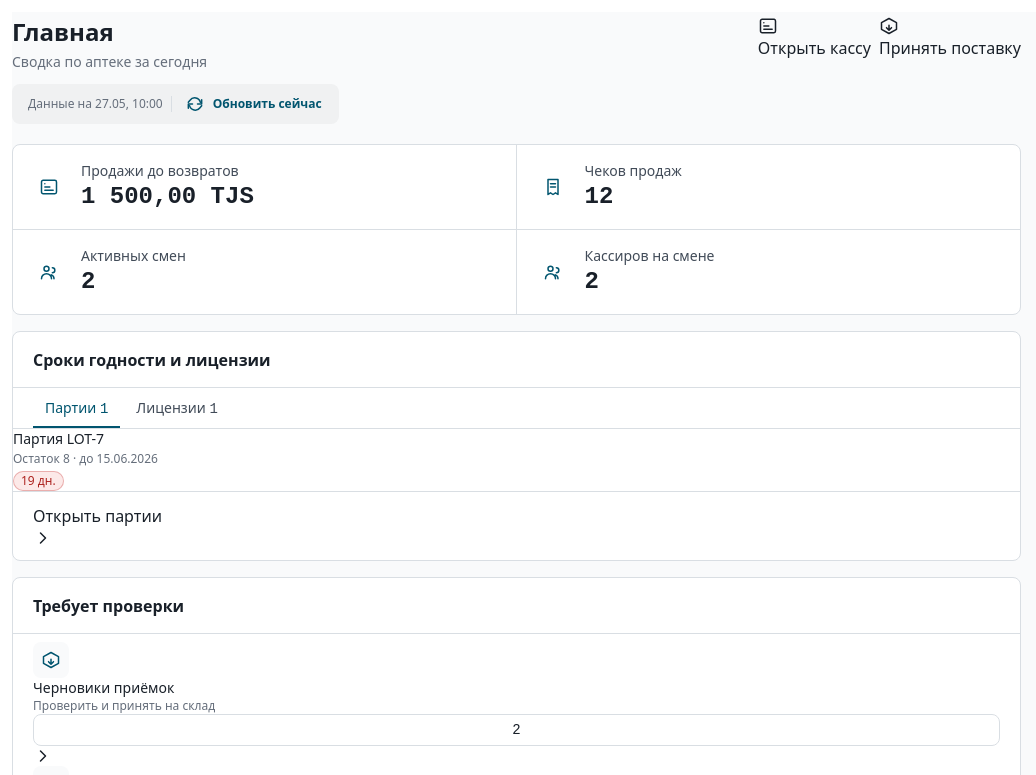
DashboardPage › renders pharmacy operations without Aurum invoice or payment reminders
The width and height of the screenshot is (1036, 775).
Expected: the heading "Сроки годности и лицензии" is shown, [33,348,271,372]
Expected: the heading "Требует проверки" is shown, [33,594,184,618]
Click the button "Лицензии 1" at x=177, y=408, box [124,388,230,428]
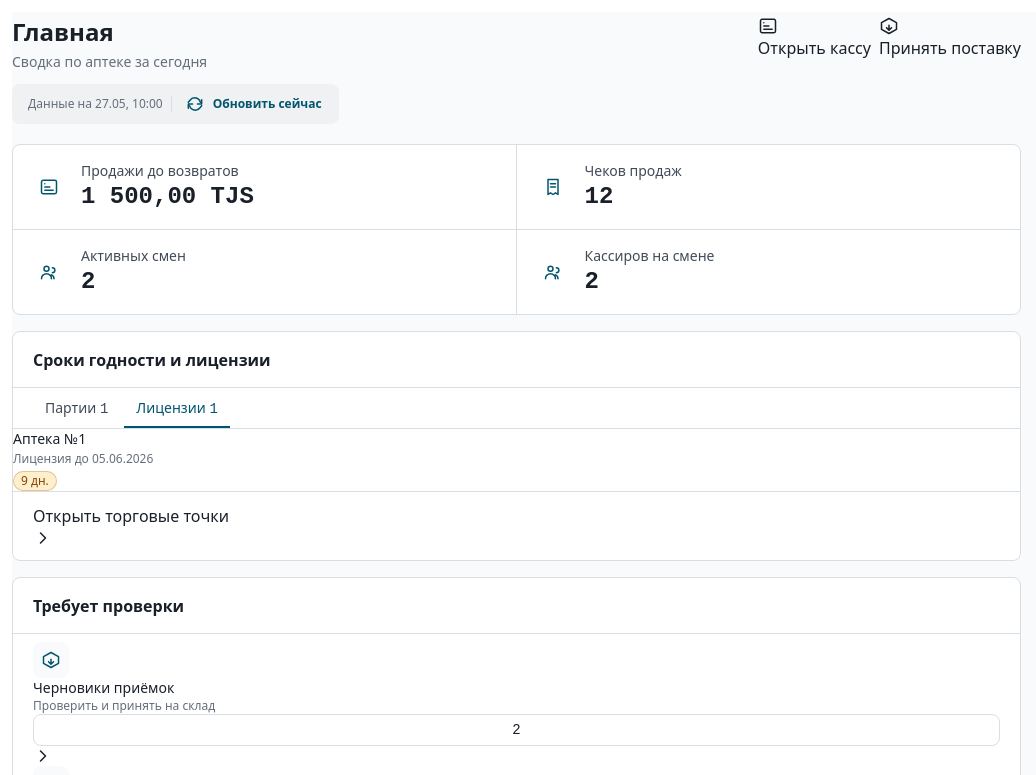
Expected: the text "Черновики приёмок" is shown, [33,678,174,697]
Expected: the text "Аптека №1" is shown, [13,429,86,448]
